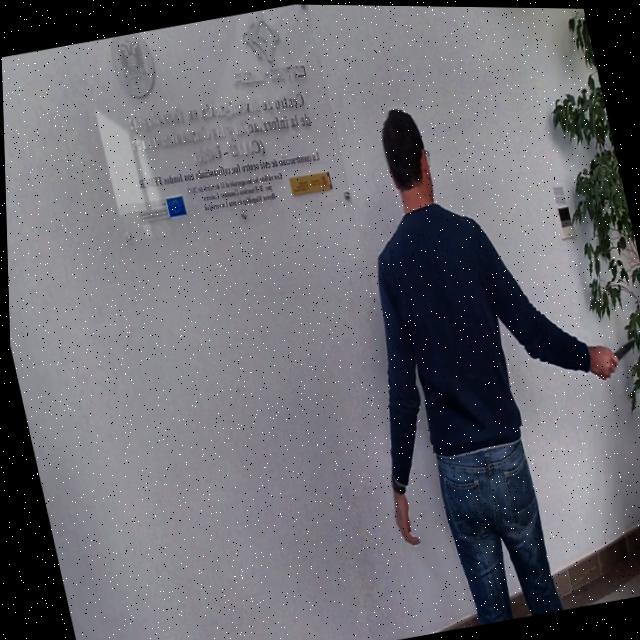knife: (606, 331, 640, 364)
